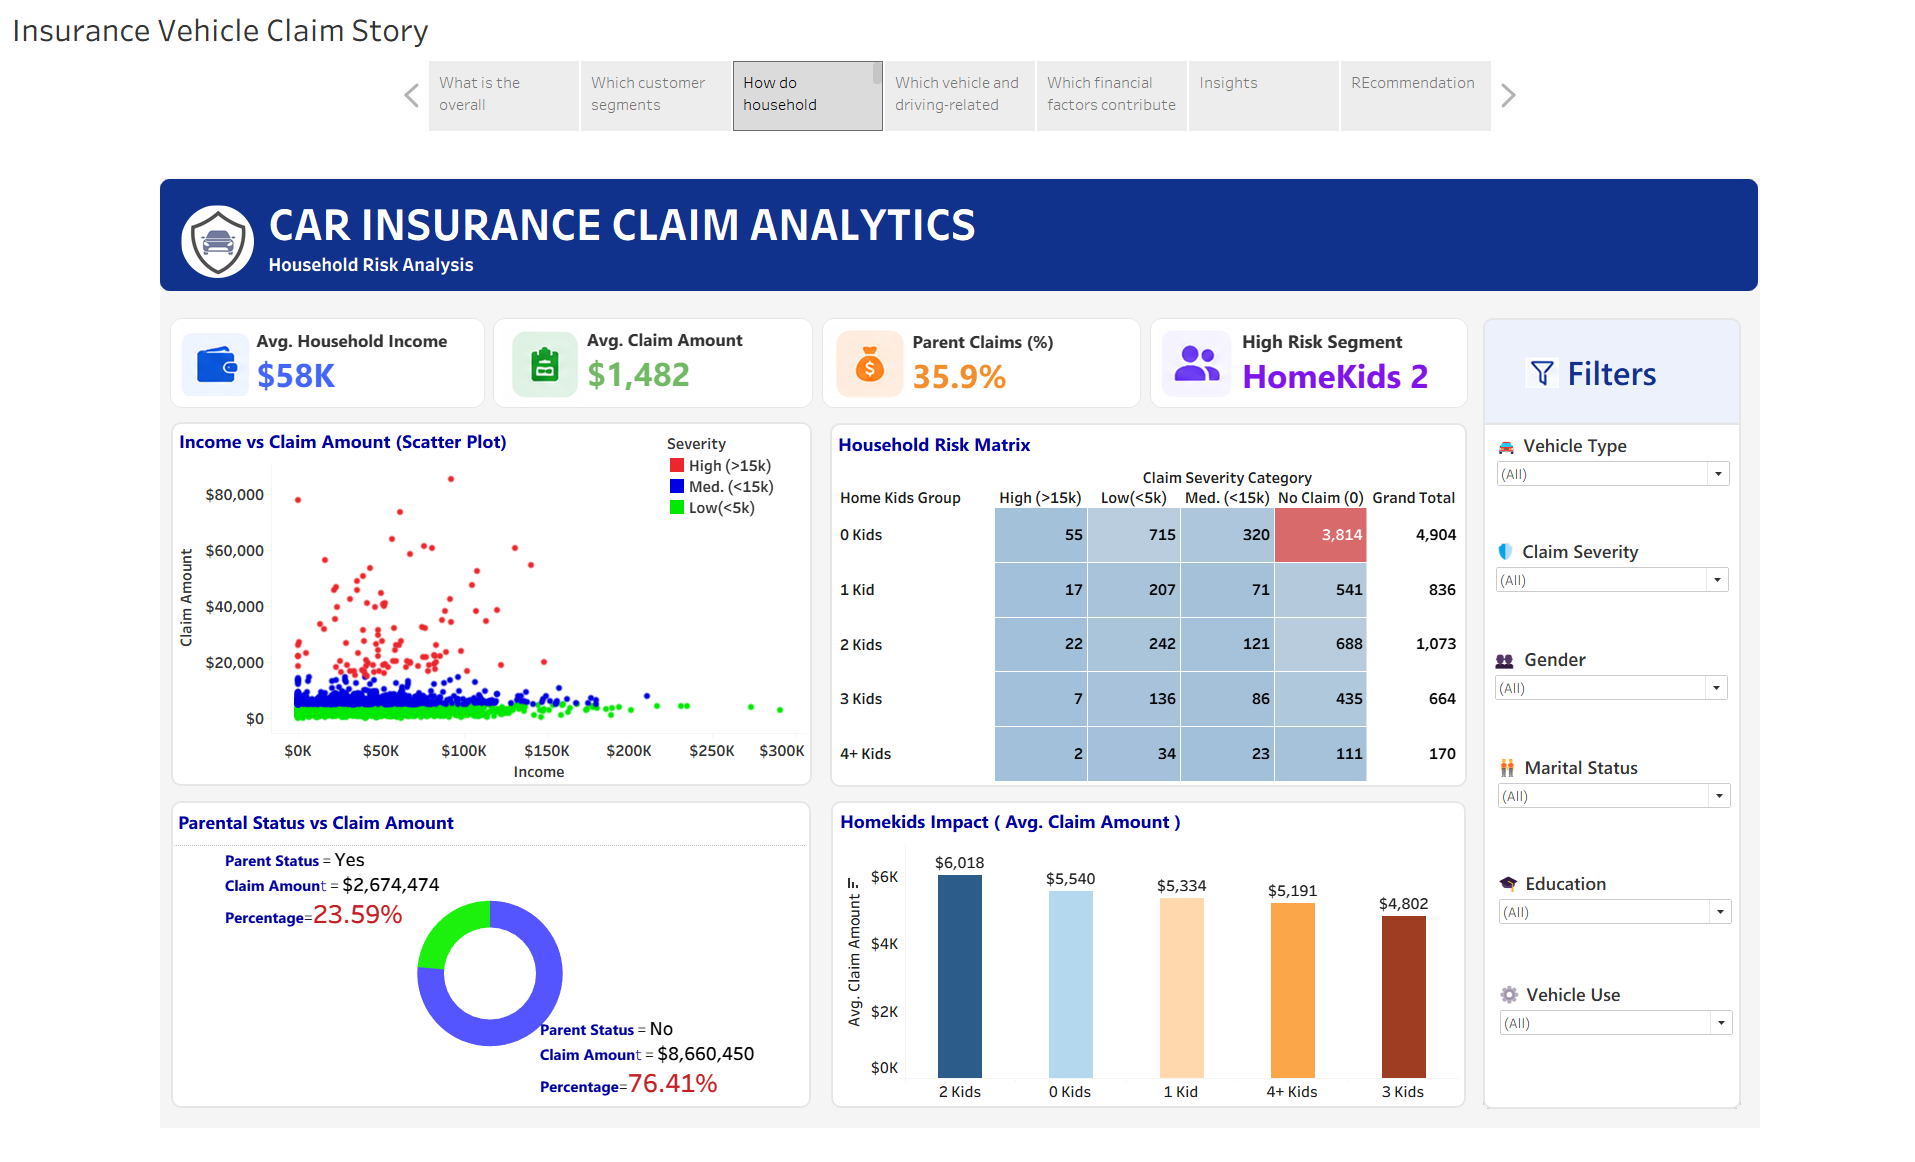

This screenshot's page, from the dashboard's own definition file:
{"tool":"tableau","page":{"name":"Household Risk","canvas":[1600,950],"ordinal":3},"visuals":[{"type":"text","box":[105,4,1075,105]},{"type":"image","param":"C:/Users/Abhi/Downloads/car-protection-shield-icon-vector-22266842.jpg","box":[17,23,81,81]},{"type":"blank","box":[0,130,335,110]},{"type":"blank","box":[323,130,340,110]},{"type":"blank","box":[652,130,339,110]},{"type":"blank","box":[980,130,338,110]},{"type":"text","box":[1323,140,258,107]},{"type":"worksheet","title":"D3-KPI4","mark":"Automatic","box":[1078,143,222,83]},{"type":"worksheet","title":"D3-KPI 1","mark":"Automatic","box":[92,144,227,82]},{"type":"worksheet","title":"D3- KPI 2 ","mark":"Automatic","box":[423,144,222,80]},{"type":"worksheet","title":"D3-KPI 3","mark":"Automatic","box":[748,145,227,81]},{"type":"image","param":"C:/Users/Abhi/Pictures/Screenshots/Screenshot 2026-06-17 132224.png","box":[994,145,85,81]},{"type":"image","param":"C:/Users/Abhi/Pictures/Screenshots/Screenshot 2026-06-12 102710.png","box":[666,147,85,76]},{"type":"image","param":"C:/Users/Abhi/Pictures/Screenshots/Screenshot 2026-06-12 102652.png","box":[342,148,85,85]},{"type":"image","param":"C:/Users/Abhi/Pictures/Screenshots/Screenshot 2026-06-17 132146.png","box":[16,150,79,74]},{"type":"image","param":"C:/Users/Abhi/Pictures/Screenshots/Screenshot 2026-06-15 124445.png","box":[1365,179,34,37]},{"type":"blank","box":[11,244,641,364]},{"type":"blank","box":[670,245,637,364]},{"type":"worksheet","title":"Income VS Claim Amt.","mark":"Circle","rows":["CLM_AMT"],"cols":["INCOME"],"box":[15,247,632,357]},{"type":"worksheet","title":"Household Matrix","mark":"Square","rows":["Calculation_0122058950328329"],"cols":["Calculation_1023656399728644"],"box":[674,250,628,354]},{"type":"legend","title":"Income VS Claim Amt.","param":"[federated.1cwp72307fy7nm1c09t5v07zbwmn].[none:Calculation_1023656399728644:nk]","box":[507,255,137,93]},{"type":"filter","title":"D3- KPI 2 ","param":"[federated.1cwp72307fy7nm1c09t5v07zbwmn].[none:CAR_TYPE:nk]","box":[1334,255,239,57]},{"type":"filter","title":"D3- KPI 2 ","param":"[federated.1cwp72307fy7nm1c09t5v07zbwmn].[none:Calculation_1023656399728644:nk]","box":[1333,361,239,58]},{"type":"filter","title":"D3- KPI 2 ","param":"[federated.1cwp72307fy7nm1c09t5v07zbwmn].[none:GENDER:nk]","box":[1332,468,239,57]},{"type":"filter","title":"D3- KPI 2 ","param":"[federated.1cwp72307fy7nm1c09t5v07zbwmn].[none:MSTATUS:nk]","box":[1335,577,239,58]},{"type":"blank","box":[11,623,640,307]},{"type":"blank","box":[671,623,635,307]},{"type":"worksheet","title":"Homekids Impact","mark":"Bar","rows":["CLM_AMT"],"cols":["Calculation_0122058950328329"],"box":[676,627,623,298]},{"type":"worksheet","title":"Parent vs Claim Status","mark":"Pie","rows":["Calculation_0122058975223818","Calculation_0122058975223818"],"cols":["Calculation_0122058975223818"],"box":[14,628,633,297]},{"type":"filter","title":"D3- KPI 2 ","param":"[federated.1cwp72307fy7nm1c09t5v07zbwmn].[none:EDUCATION:nk]","box":[1336,693,239,59]},{"type":"filter","title":"D3- KPI 2 ","param":"[federated.1cwp72307fy7nm1c09t5v07zbwmn].[none:CAR_USE:nk]","box":[1337,804,239,57]}]}

Visuals, with their boxes in screenshot pixels (x1, y1, x2, y2), scaled from the page's 1600x950 canvas onto the 1915x1162 screenshot:
text: region(126, 5, 1412, 133)
image: region(20, 28, 117, 127)
blank: region(0, 159, 401, 294)
blank: region(387, 159, 794, 294)
blank: region(780, 159, 1186, 294)
blank: region(1173, 159, 1577, 294)
text: region(1583, 171, 1892, 302)
"D3-KPI4" worksheet: region(1290, 175, 1556, 276)
"D3-KPI 1" worksheet: region(110, 176, 382, 276)
"D3- KPI 2 " worksheet: region(506, 176, 772, 274)
"D3-KPI 3" worksheet: region(895, 177, 1167, 276)
image: region(1190, 177, 1291, 276)
image: region(797, 180, 899, 273)
image: region(409, 181, 511, 285)
image: region(19, 183, 114, 274)
image: region(1634, 219, 1674, 264)
blank: region(13, 298, 780, 744)
blank: region(802, 300, 1564, 745)
"Income VS Claim Amt." worksheet (Circle marks): region(18, 302, 774, 739)
"Household Matrix" worksheet (Square marks): region(807, 306, 1558, 739)
"Income VS Claim Amt." legend: region(607, 312, 771, 426)
"D3- KPI 2 " filter: region(1597, 312, 1883, 382)
"D3- KPI 2 " filter: region(1595, 442, 1881, 513)
"D3- KPI 2 " filter: region(1594, 572, 1880, 642)
"D3- KPI 2 " filter: region(1598, 706, 1884, 777)
blank: region(13, 762, 779, 1138)
blank: region(803, 762, 1563, 1138)
"Homekids Impact" worksheet (Bar marks): region(809, 767, 1555, 1131)
"Parent vs Claim Status" worksheet (Pie marks): region(17, 768, 774, 1131)
"D3- KPI 2 " filter: region(1599, 848, 1885, 920)
"D3- KPI 2 " filter: region(1600, 983, 1886, 1053)
